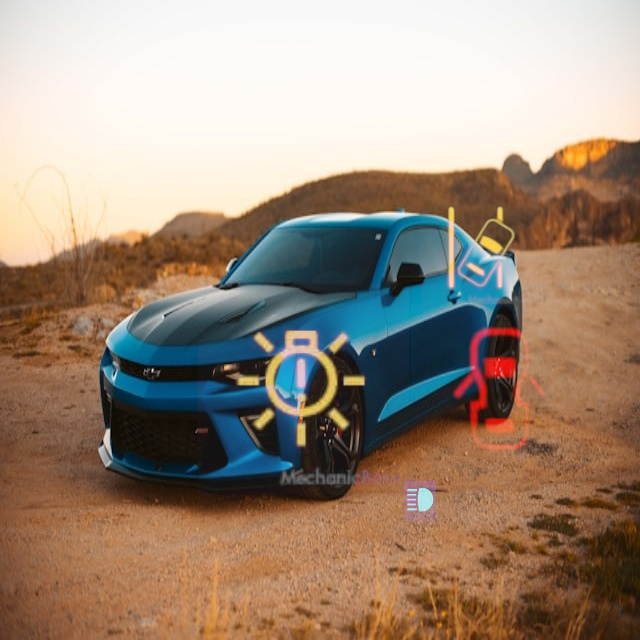symbol: (198, 284, 409, 495), (411, 304, 590, 483), (357, 441, 484, 568), (421, 190, 541, 310)
